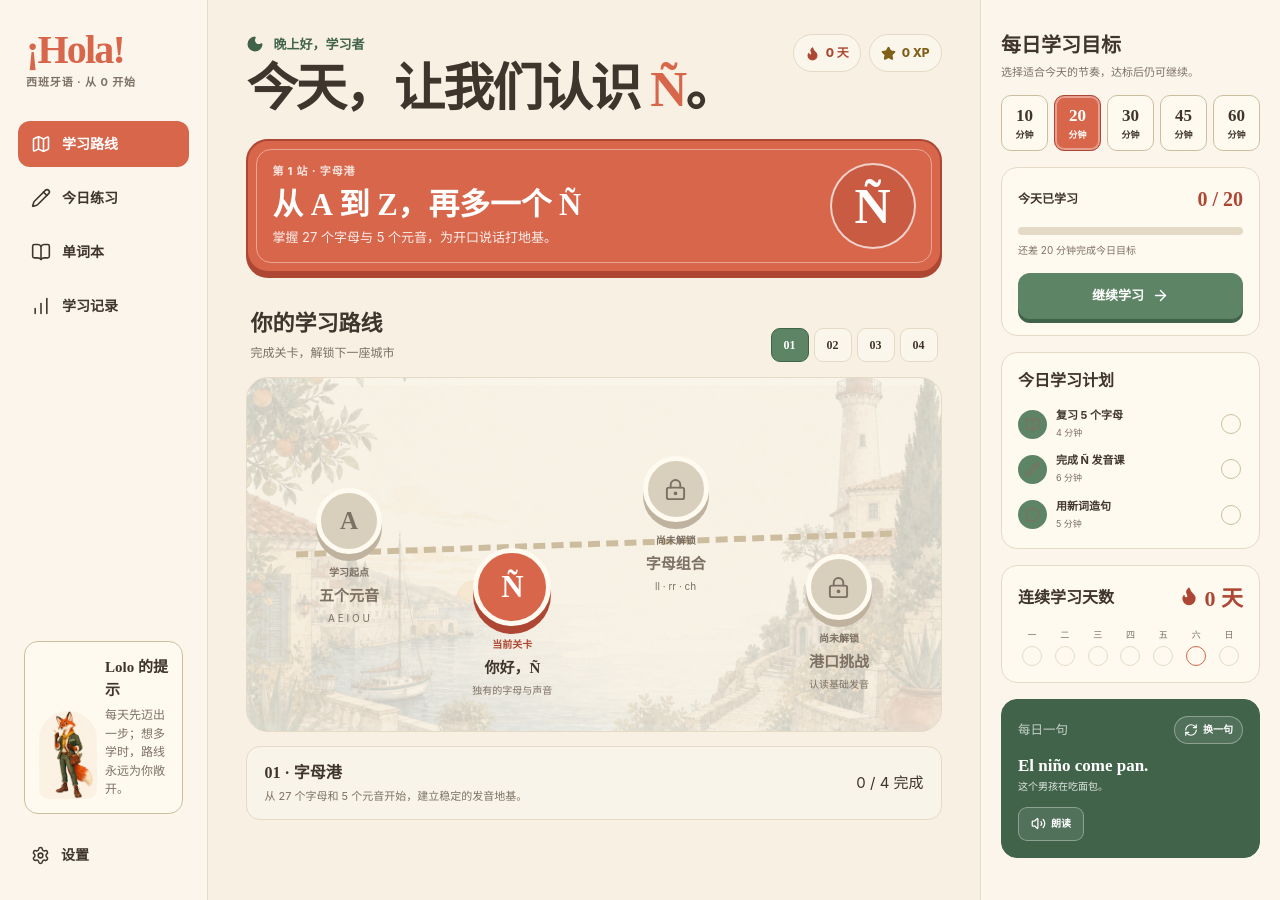
Scenario: App lesson routing › opens a dedicated professional drill from practice
The width and height of the screenshot is (1280, 900).
Click the button "今日练习" at (104, 198), box x1=18 y1=175 x2=189 y2=221
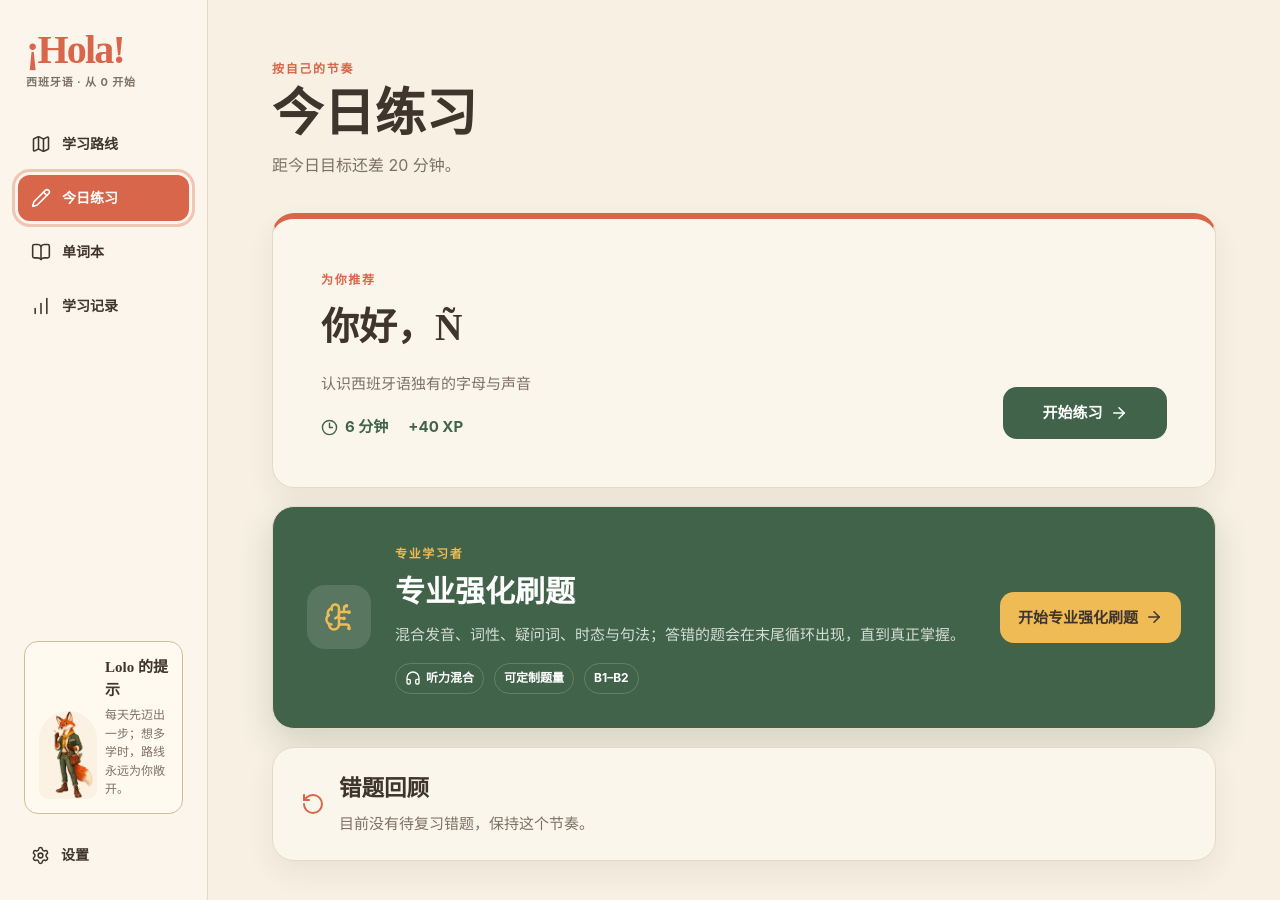
Click the button "开始专业强化刷题" at (1090, 617), box x1=1000 y1=592 x2=1181 y2=643
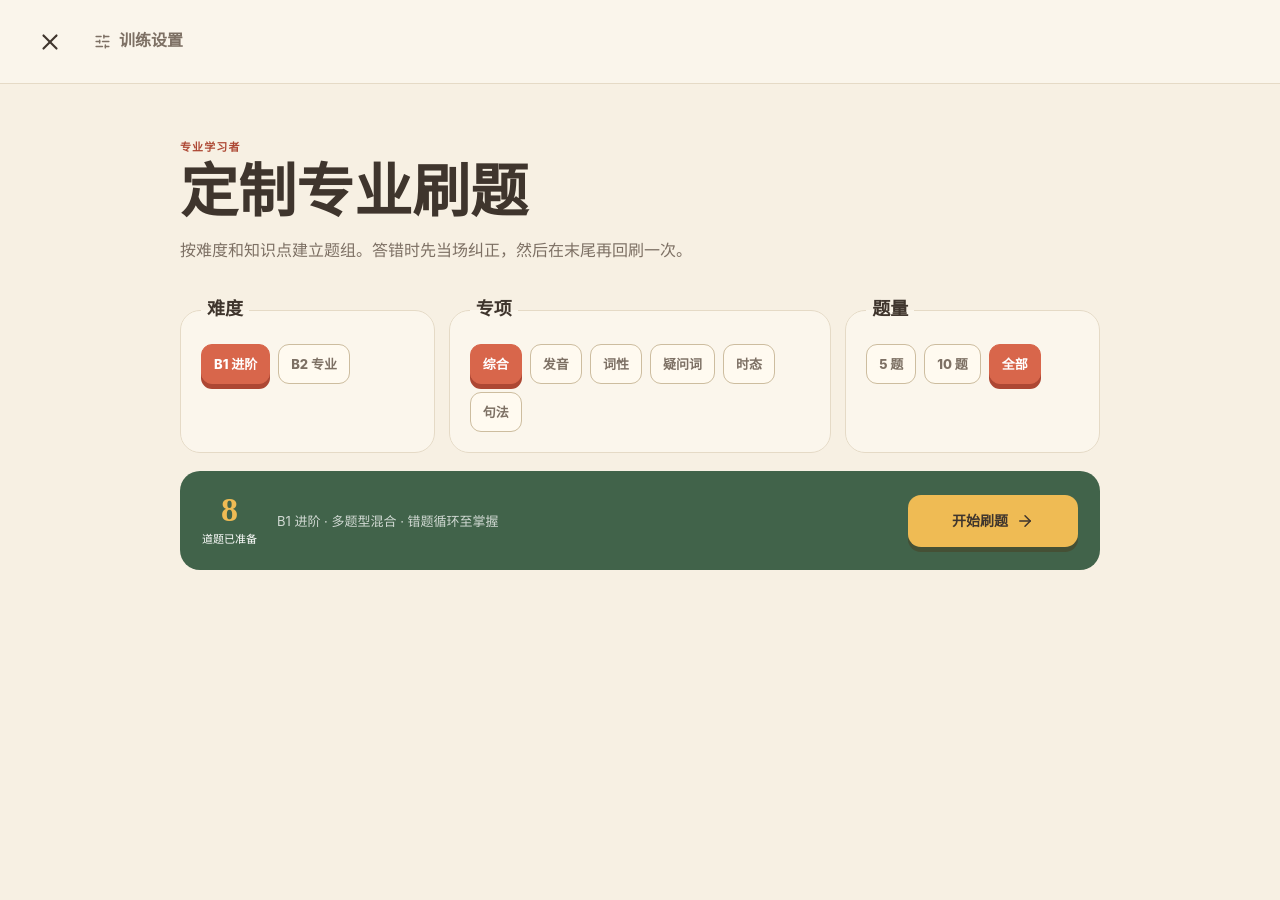
Result: the heading "定制专业刷题" is shown at x1=180 y1=160 x2=528 y2=225
Click the button "B2 专业" at (314, 364), box x1=278 y1=344 x2=350 y2=384
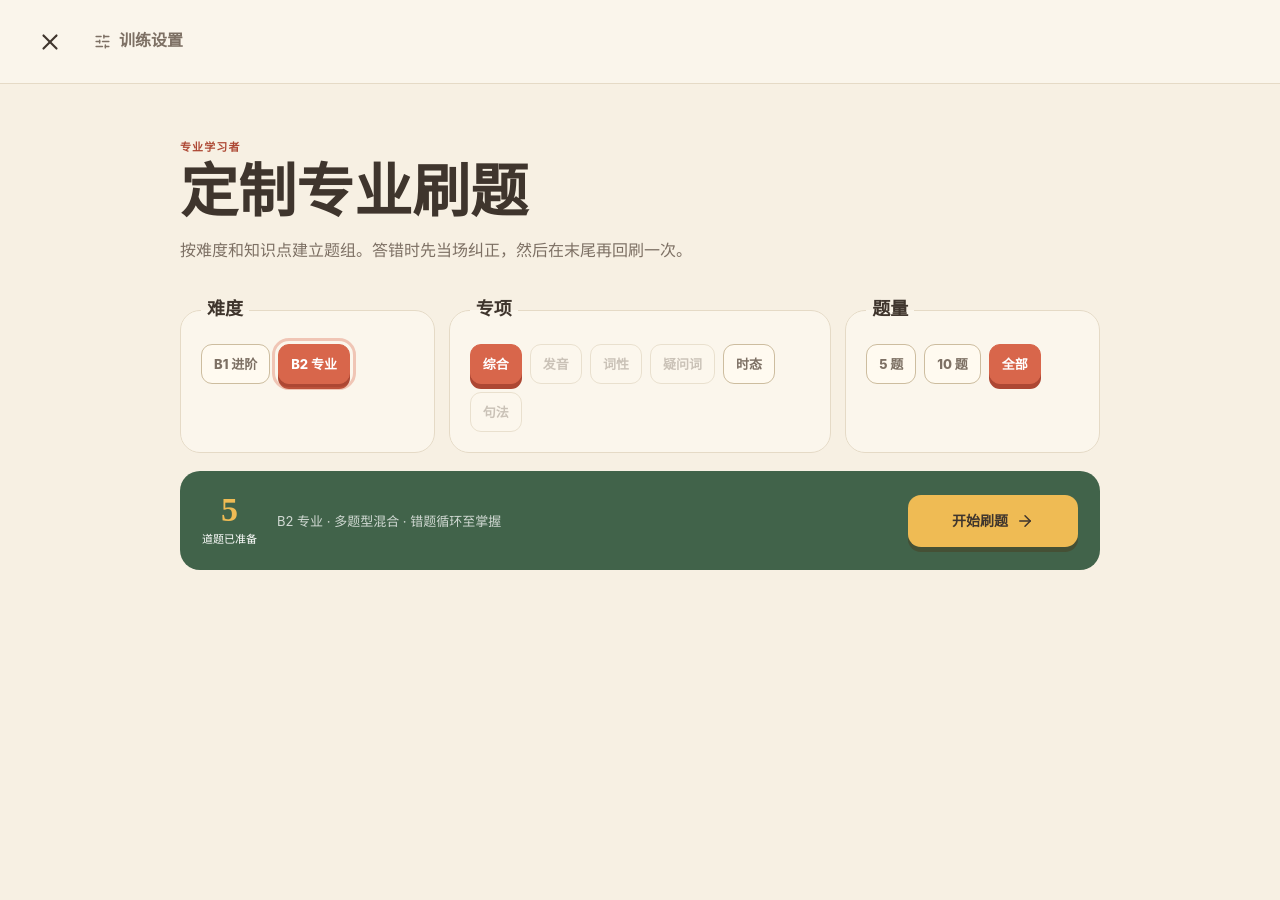
Result: the button "时态" is enabled
Result: the button "发音" is disabled at x1=530 y1=344 x2=582 y2=384
Click the button "时态" at (749, 364), box x1=723 y1=344 x2=775 y2=384
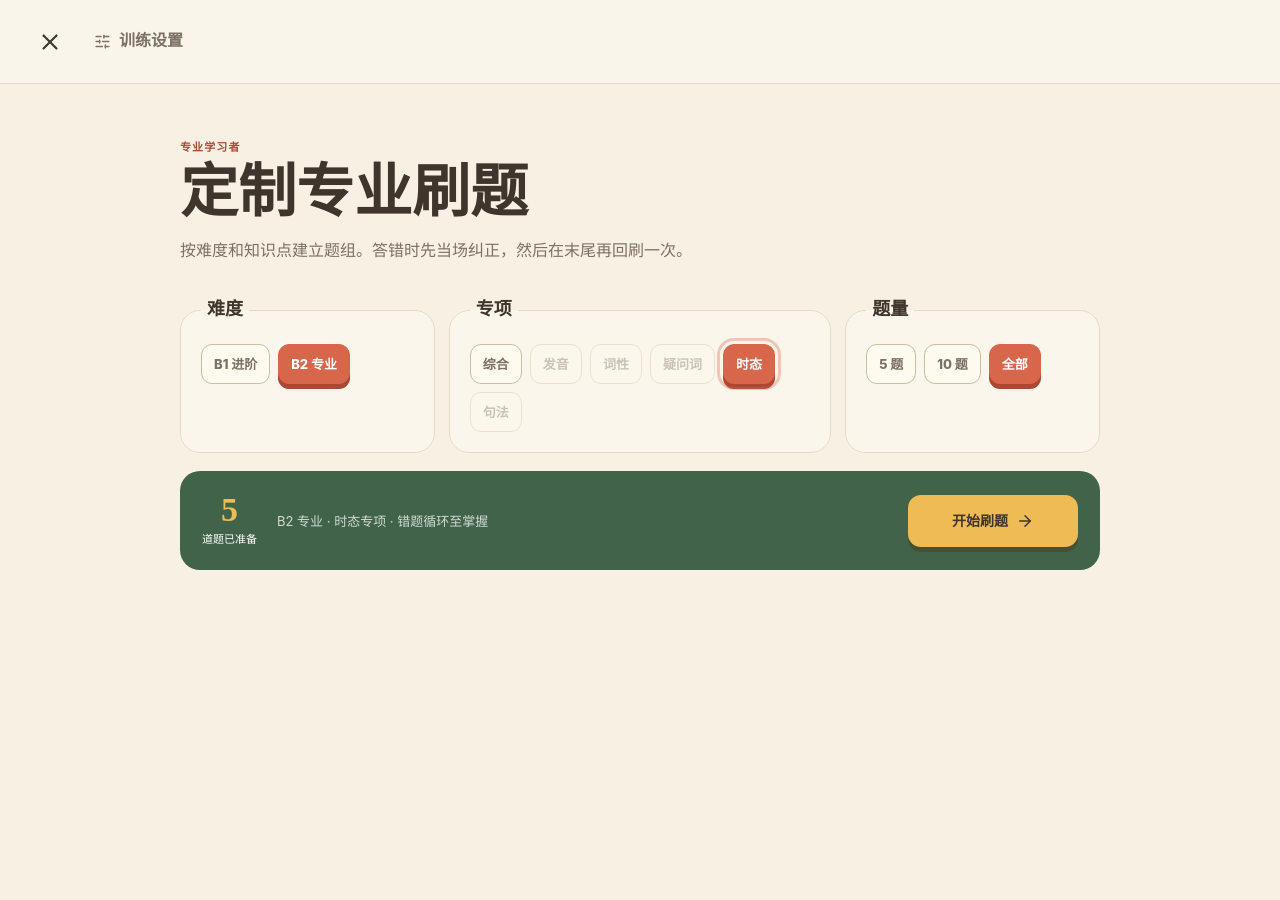
Click the button "5 题" at (891, 364), box x1=866 y1=344 x2=916 y2=384
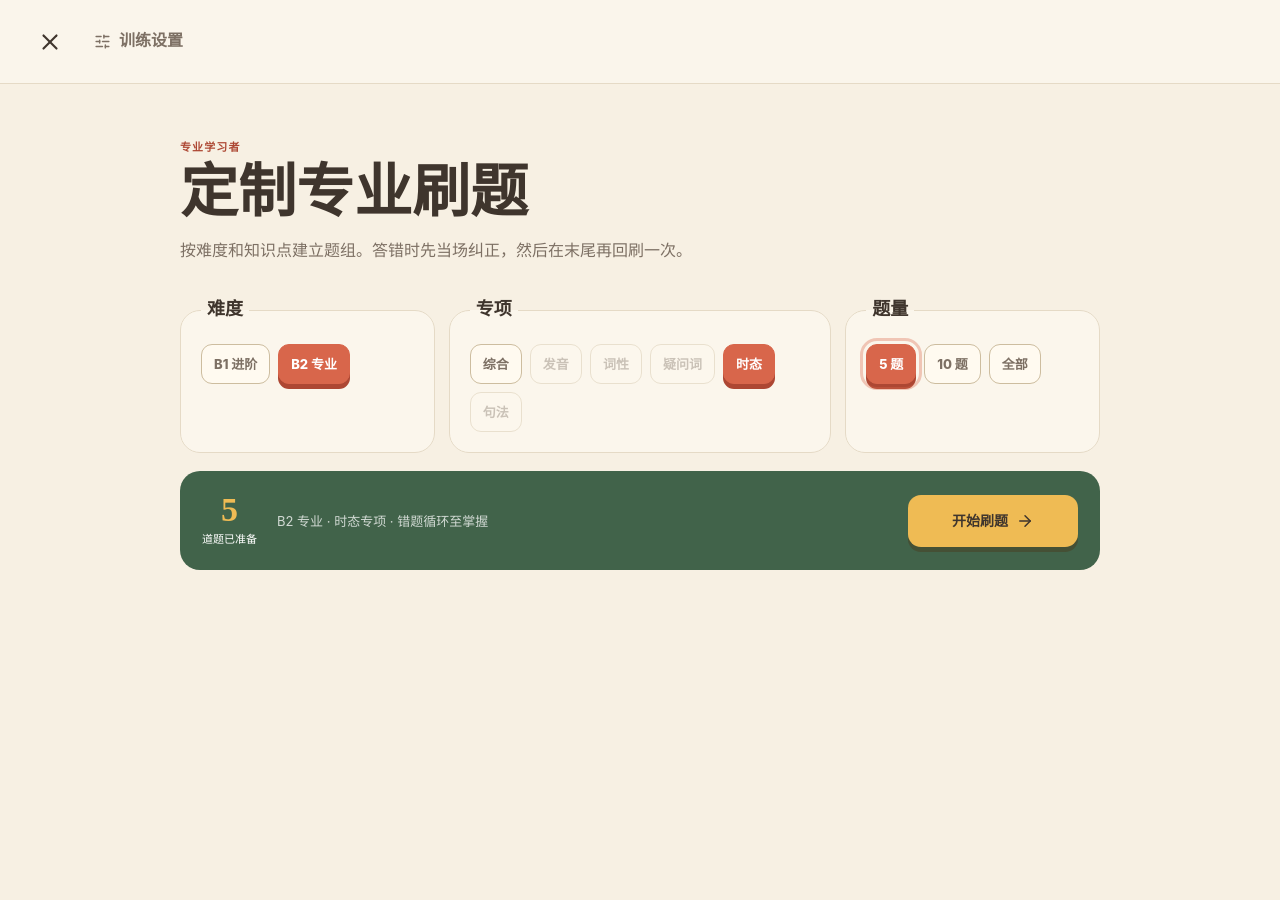
Click the button "开始刷题" at (993, 521), box x1=908 y1=495 x2=1078 y2=547
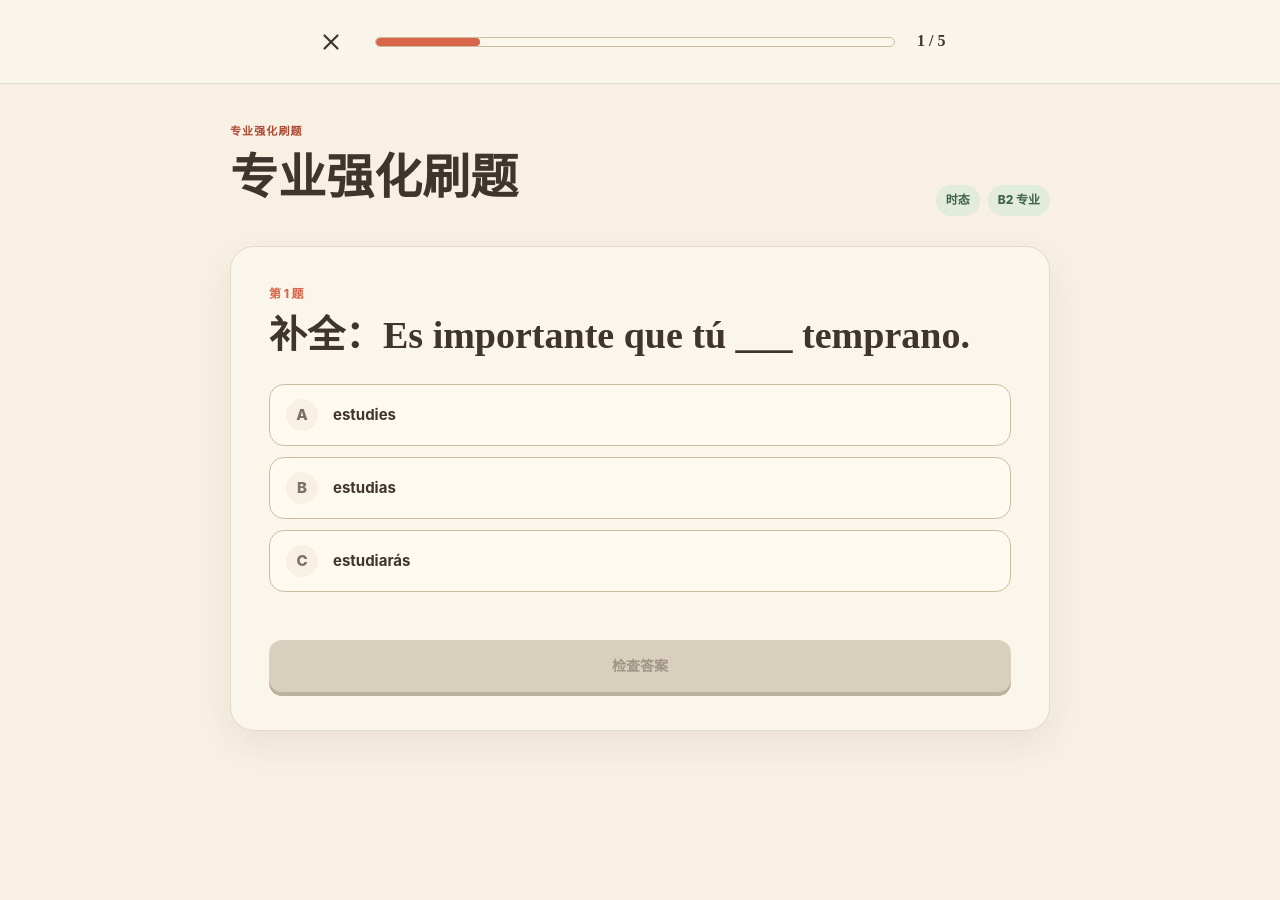
Result: the text "B2 专业" is shown at x1=988 y1=185 x2=1050 y2=216
Result: the heading "专业强化刷题" is shown at x1=230 y1=141 x2=518 y2=216
